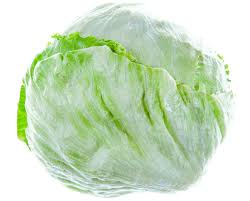Lettuce: (20, 7, 231, 186)
